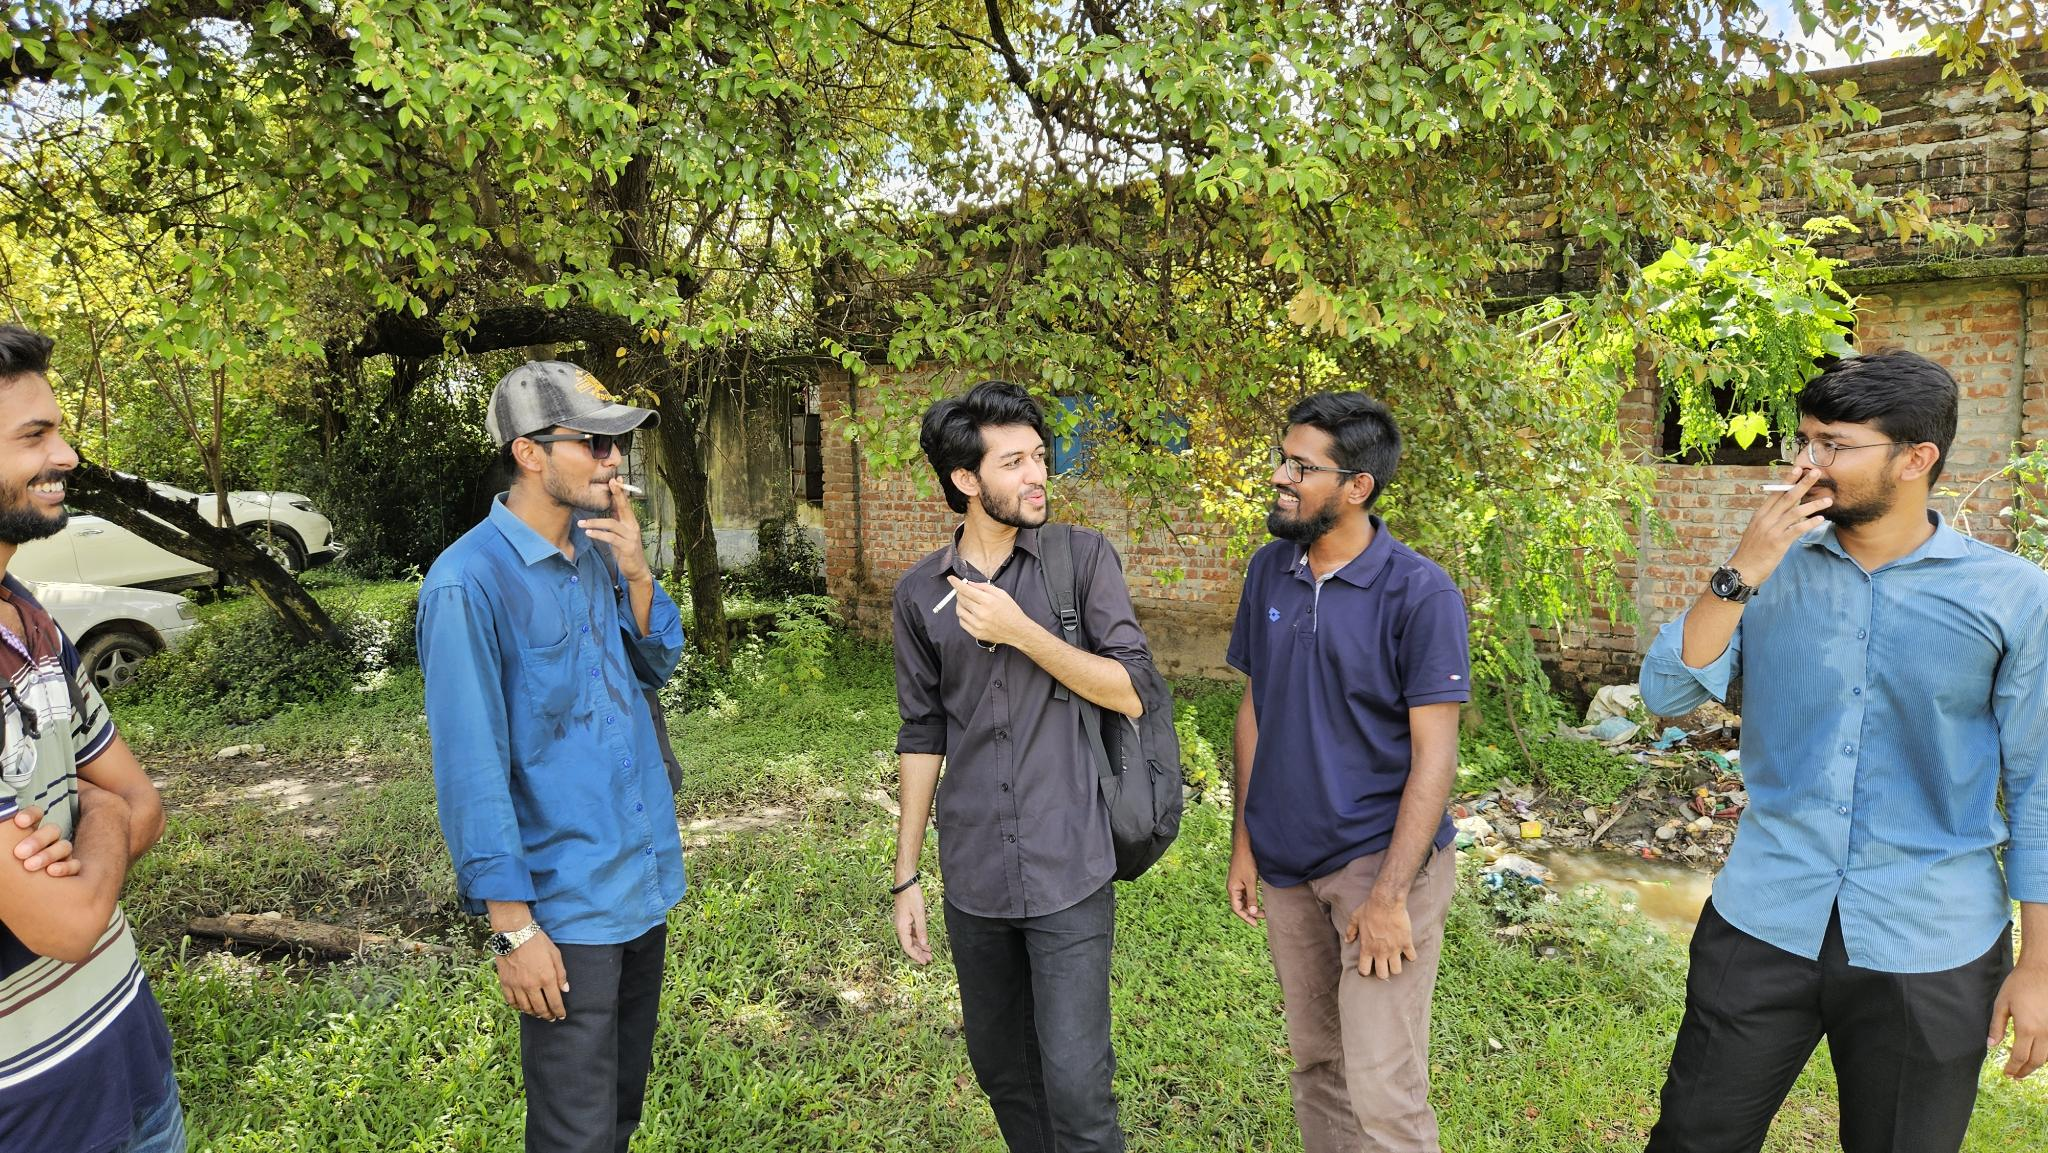cigarette: (930, 575, 971, 616), (610, 478, 646, 496), (1755, 481, 1799, 495)
nonSmoker: (1221, 392, 1473, 1153), (0, 319, 196, 1153)
smoker: (1633, 361, 2048, 1153), (889, 381, 1182, 1153), (418, 357, 692, 1153)
